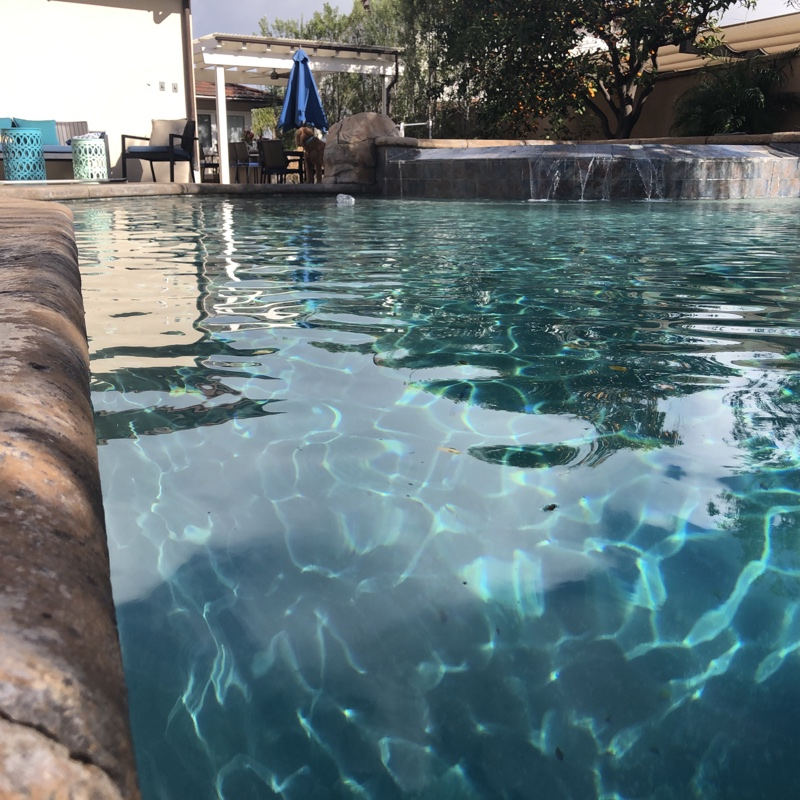Plastic Bottle: (334, 192, 356, 206)
